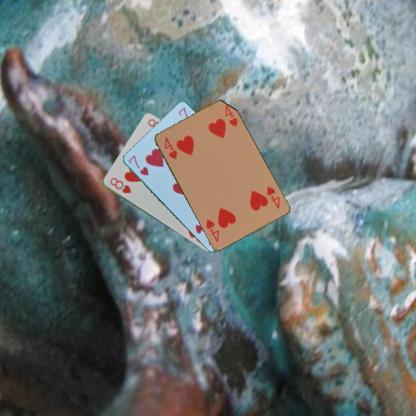4h: (161, 134, 179, 160), (262, 184, 280, 209)
7h: (125, 152, 150, 176)
8h: (107, 175, 132, 195)
